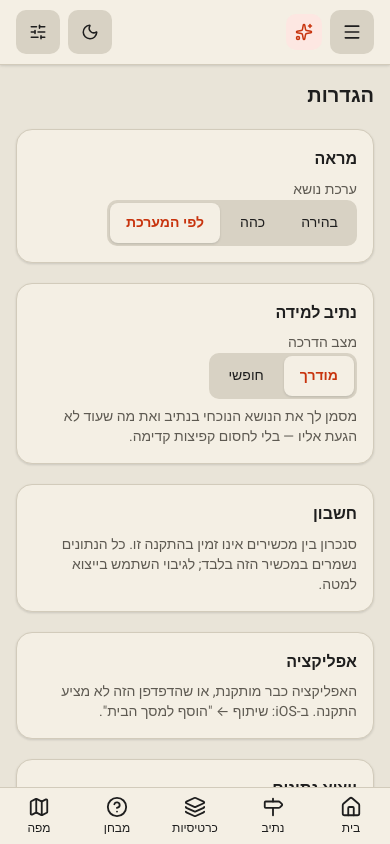
Scenario: App › opens a navigation drawer (without the Home filters) from the header menu button on other pages
The image size is (390, 844).
Expected: the heading "הגדרות" is shown, [307,83,374,107]
Click the button named "פתח תפריט".
click(352, 32)  # box [330,10,374,54]
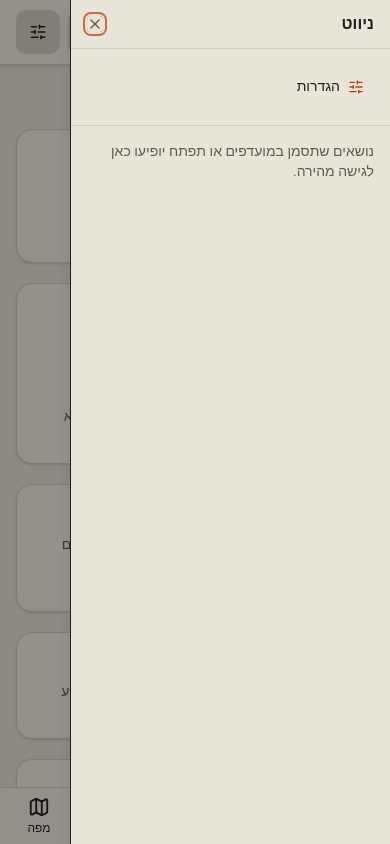
Expected: the link "הגדרות" is shown, [297,76,364,97]
